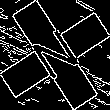N_SE: (25, 23, 85, 87)
